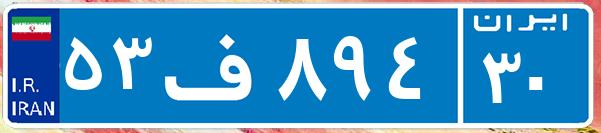0: (525, 38, 570, 115)
3: (475, 38, 525, 113), (110, 28, 158, 105)
4: (385, 28, 445, 110)
5: (57, 26, 110, 107)
8: (273, 28, 330, 110)
9: (330, 28, 385, 110)
ف: (158, 15, 273, 115)
